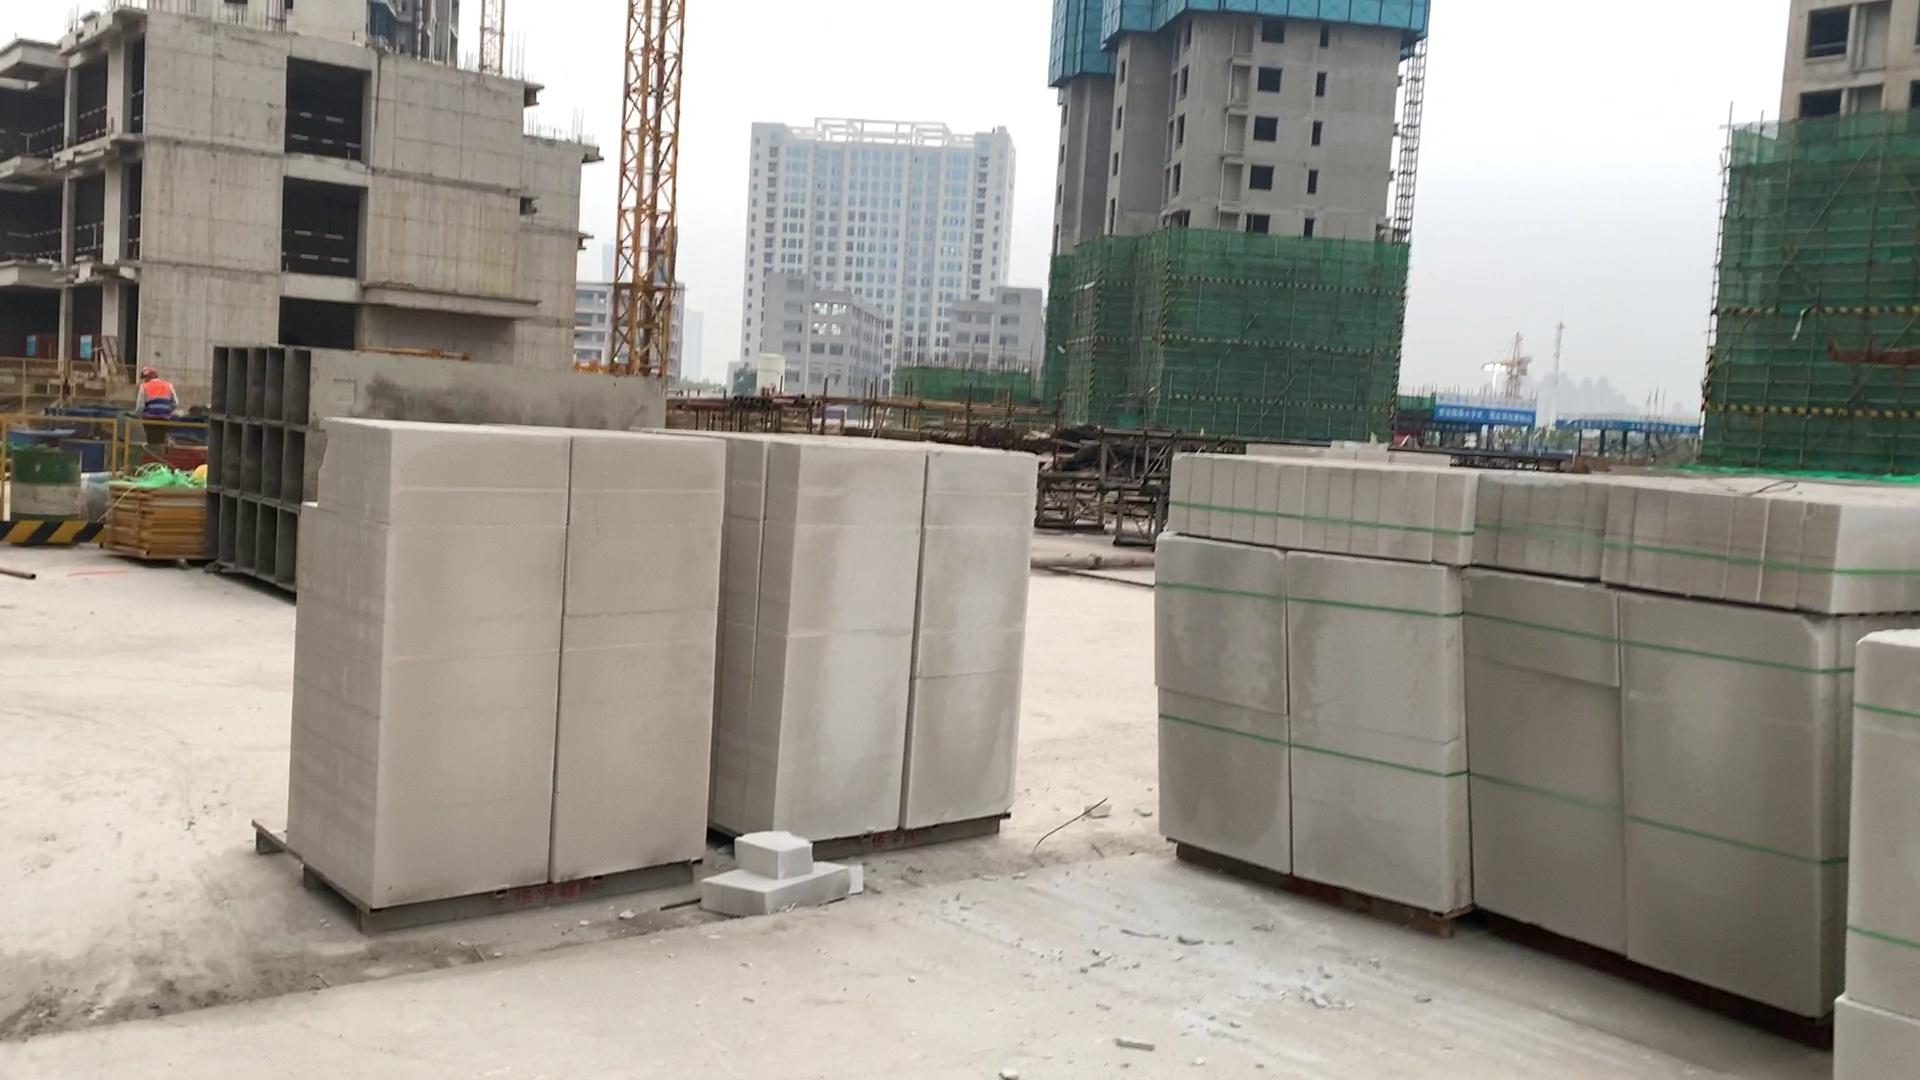brickwork: (1468, 473, 1834, 1023), (299, 415, 723, 891), (1156, 448, 1468, 928), (749, 435, 1039, 852), (1836, 632, 1920, 1071)
